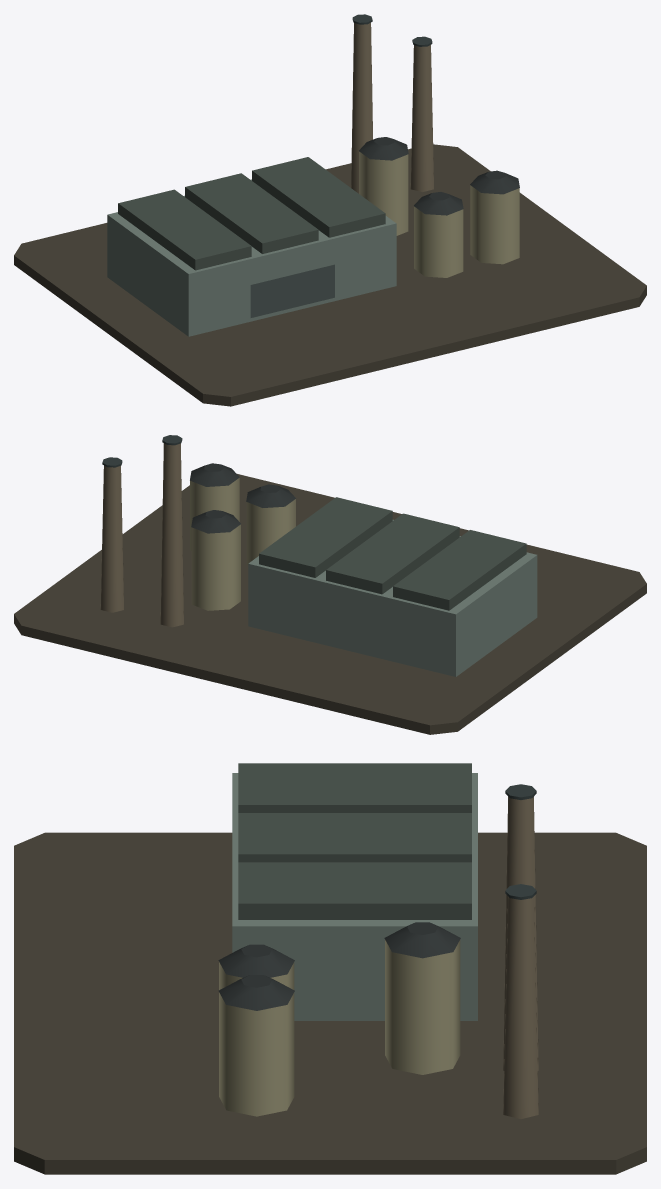
Rendered from industrial.glb.
The picture shows the model from 3 angles, top to bottom: view 1: azimuth 30°, elevation 25°; view 2: azimuth 150°, elevation 25°; view 3: azimuth 270°, elevation 25°; orthographic projection. The views are drawn at different scales.
Parts seen in each view (by area): view 1: industrial; view 2: industrial; view 3: industrial.
Part boxes in pixels (bbox=[...]): industrial: bbox=[14, 14, 646, 406]; industrial: bbox=[14, 435, 646, 734]; industrial: bbox=[14, 763, 646, 1174].
Bounding box in the file's own units: 126 × 52.1 × 103.
